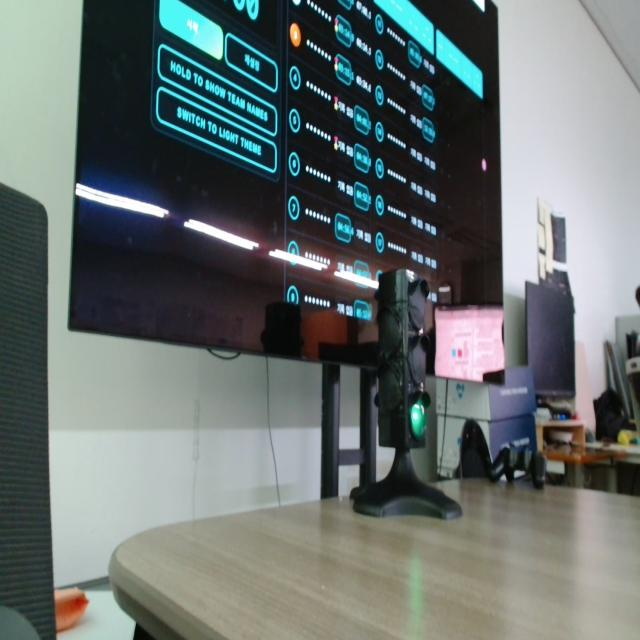green_light: (411, 399, 426, 439)
